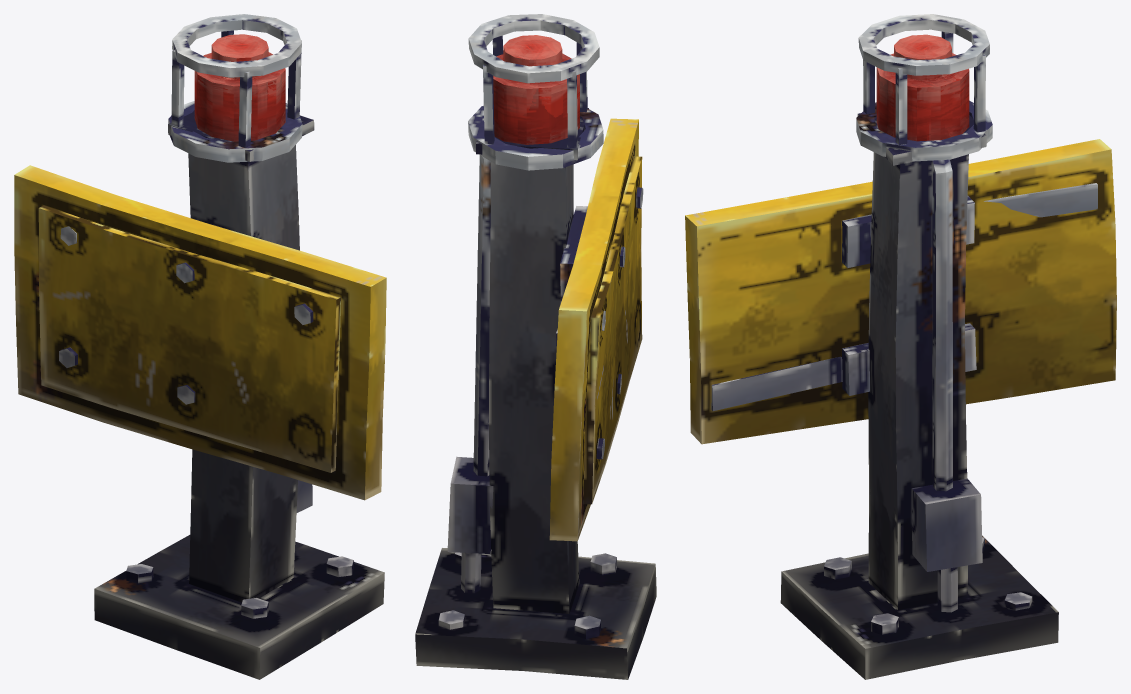
The picture shows the model from 3 angles, left to right: view 1: azimuth 30°, elevation 25°; view 2: azimuth 150°, elevation 25°; view 3: azimuth 270°, elevation 25°; orthographic projection. The views are drawn at different scales.
Visible parts, largest first — view 1: Sign, Post, Fittings, Lamp; view 2: Post, Sign, Fittings, Lamp; view 3: Sign, Post, Fittings, Lamp.
Boxes of the visible parts, <box> form: Sign: <box>14,165,386,500</box>; Post: <box>94,111,384,679</box>; Fittings: <box>59,14,353,618</box>; Lamp: <box>194,34,285,141</box>; Post: <box>415,108,656,679</box>; Sign: <box>549,118,642,541</box>; Fittings: <box>438,14,643,638</box>; Lamp: <box>493,35,579,144</box>; Sign: <box>685,139,1116,444</box>; Post: <box>780,113,1058,679</box>; Fittings: <box>711,14,1097,634</box>; Lamp: <box>876,34,969,141</box>.
Bounding box in the file's own units: 1.54 × 3.33 × 2.21.
Materials: 4 (4 with a texture image).
